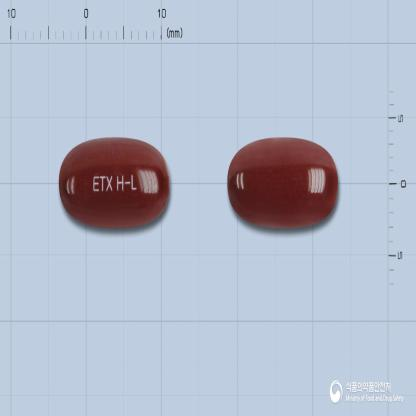pill: (226, 134, 340, 230), (58, 135, 170, 229)
